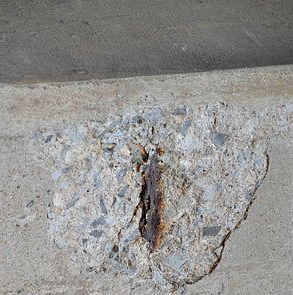Exposed reinforcement: (142, 151, 160, 245)
Spalling: (29, 101, 293, 295)
